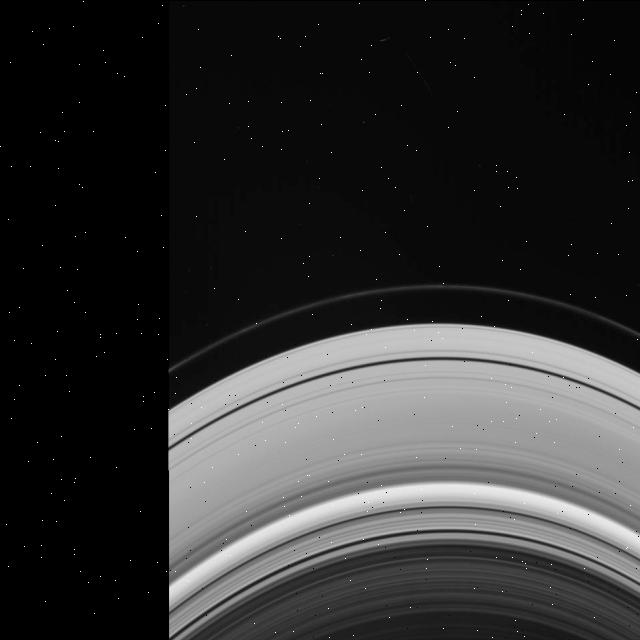Saturn: (170, 281, 640, 640)
